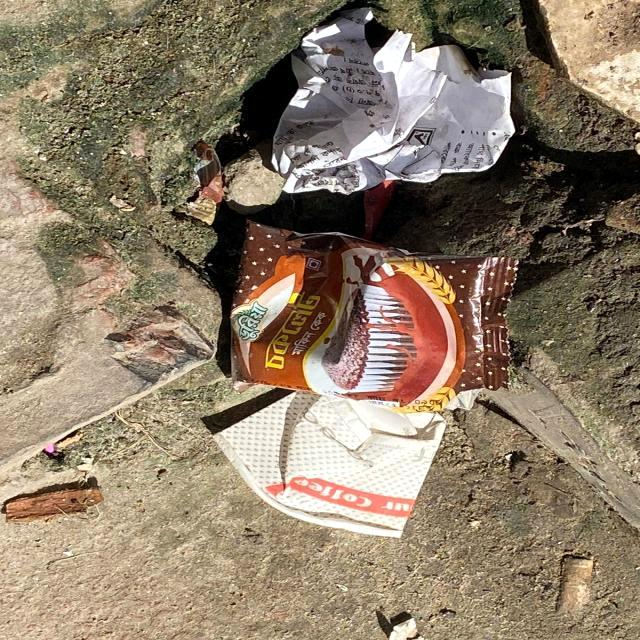packet: (238, 225, 523, 408)
